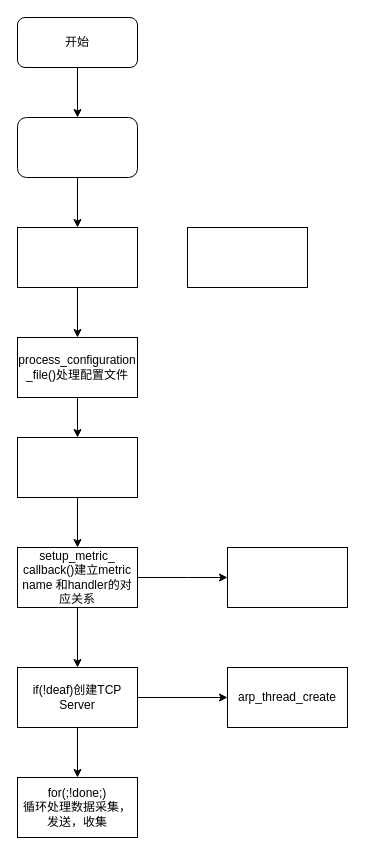
This 365x855 diagram has some shape labels left out. Here are the shapes that lost their labels. From the top down, the box of each, then its label:
(16, 116, 138, 178): main
(16, 226, 138, 288): cmdline_parse 命令行解析
(16, 436, 138, 498): load_metric_ modules()载入收集modules模块
